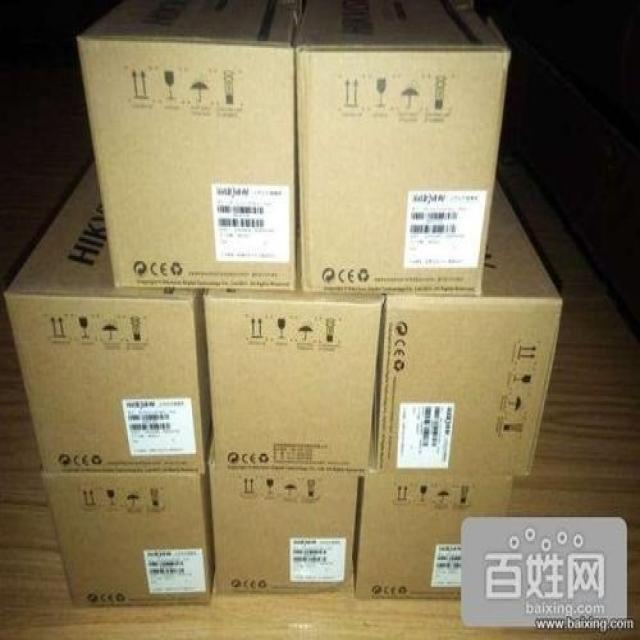box: (5, 158, 212, 472), (79, 3, 305, 288), (293, 1, 511, 295), (371, 175, 562, 475), (204, 288, 383, 468), (352, 431, 513, 599), (40, 470, 214, 608), (206, 442, 359, 592)
